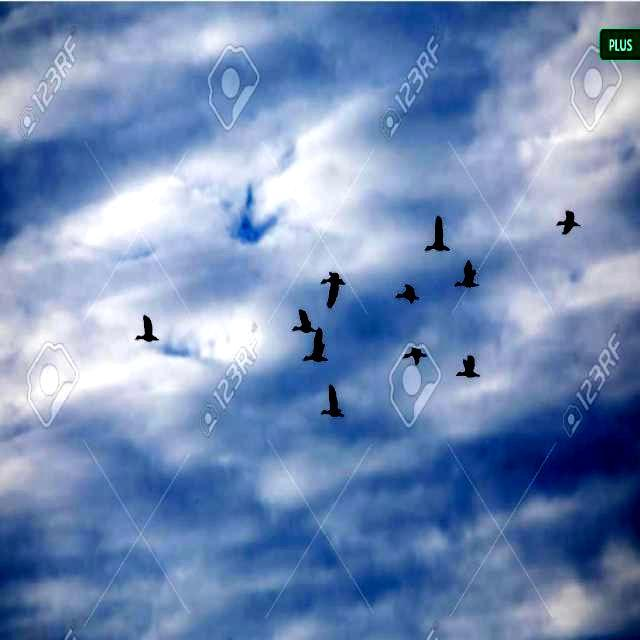bird: (423, 212, 456, 256), (303, 330, 335, 370), (319, 382, 350, 420), (320, 266, 346, 308), (453, 256, 481, 294), (286, 304, 316, 337), (134, 314, 161, 349), (455, 352, 486, 382), (557, 204, 584, 238), (392, 280, 422, 304), (403, 342, 429, 367)
